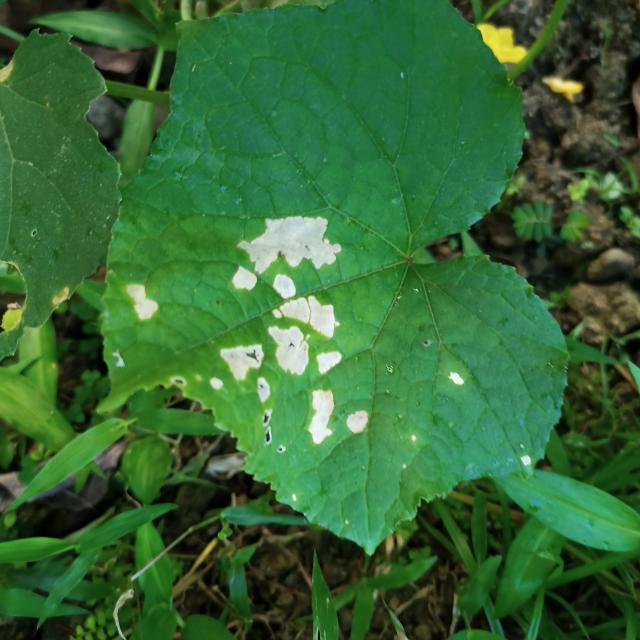disease_cucumber: (220, 209, 379, 451), (118, 278, 162, 337), (448, 365, 470, 399)
